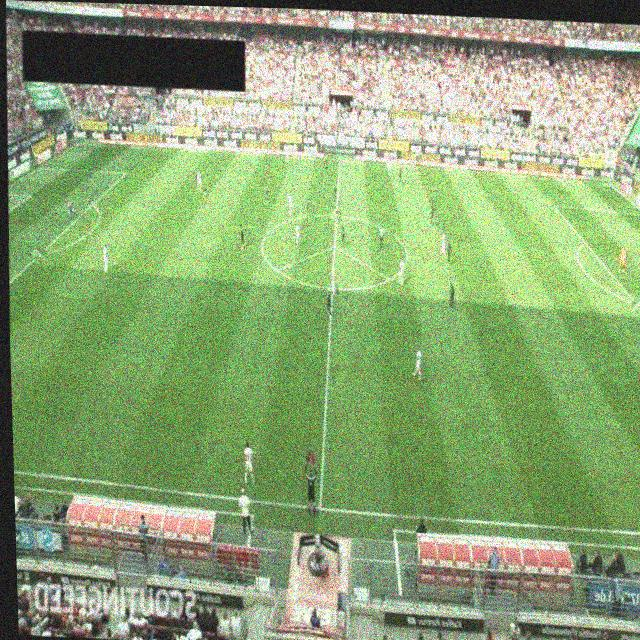bigarea_top_inner: (548, 199, 559, 211), (120, 168, 132, 178)
bigarea_top_outter: (33, 163, 45, 173)
bottom_arc_area_intersection: (31, 249, 48, 260), (631, 300, 640, 311)
corner: (603, 178, 615, 190), (71, 139, 83, 148)
halfcircle_bottom: (327, 282, 338, 294)
halfcircle_top: (330, 209, 341, 220)
midline_bottom_intersection: (310, 498, 329, 517)
midline_top_intersection: (333, 153, 345, 164)
smallarea_top_inner: (24, 190, 37, 202)
top_arc_area_intersection: (579, 236, 591, 249), (87, 198, 97, 211)
